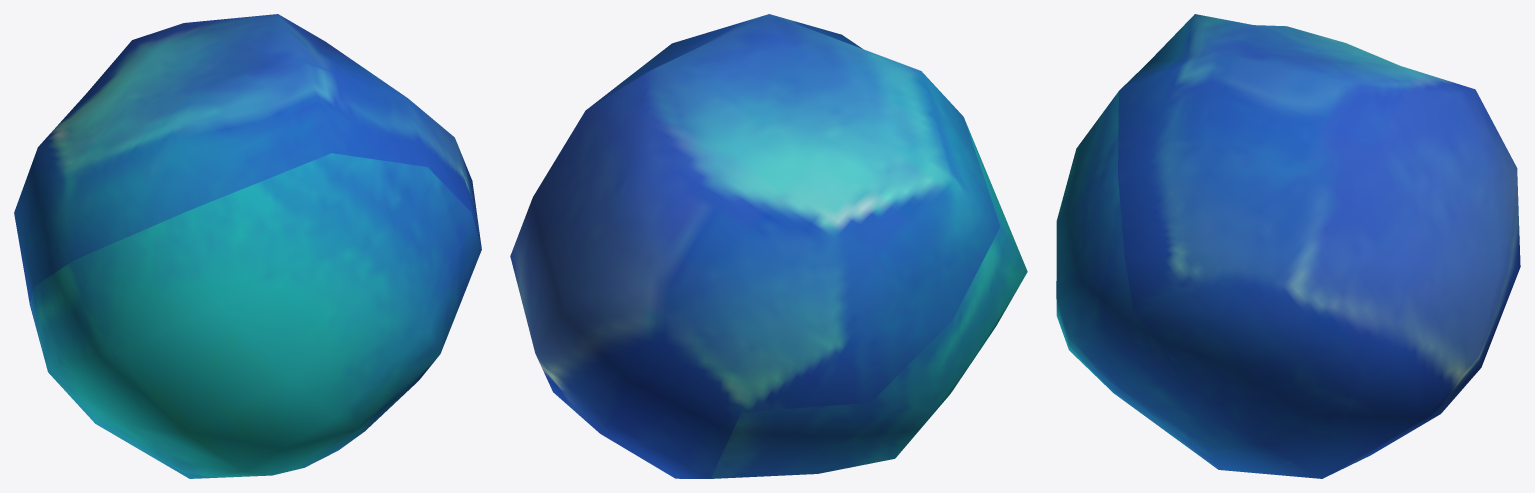
Rendered from hd_xiaoyouxi_lanbaoshi.glb.
The picture shows the model from 3 angles, left to right: view 1: azimuth 30°, elevation 25°; view 2: azimuth 150°, elevation 25°; view 3: azimuth 270°, elevation 25°; orthographic projection. The views are drawn at different scales.
Parts seen in each view (by area): view 1: xiaoyouxi_baoshi_f; view 2: xiaoyouxi_baoshi_f; view 3: xiaoyouxi_baoshi_f.
Boxes of the visible parts, <box> form: xiaoyouxi_baoshi_f: <box>14,14,481,478</box>; xiaoyouxi_baoshi_f: <box>510,14,1027,478</box>; xiaoyouxi_baoshi_f: <box>1056,14,1520,478</box>.
Size of the model in its own units: 0.2547 by 0.2423 by 0.2506.
Materials: 1 (1 with a texture image).
